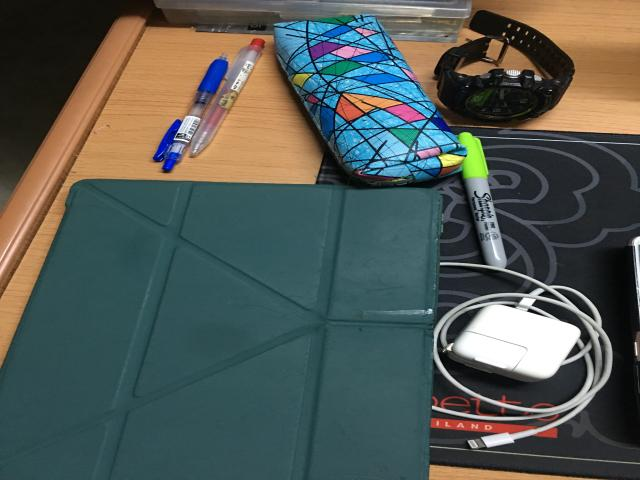Pen: (153, 37, 268, 172), (458, 132, 507, 268)
Watch: (435, 10, 575, 122)
wire: (432, 262, 613, 449)
